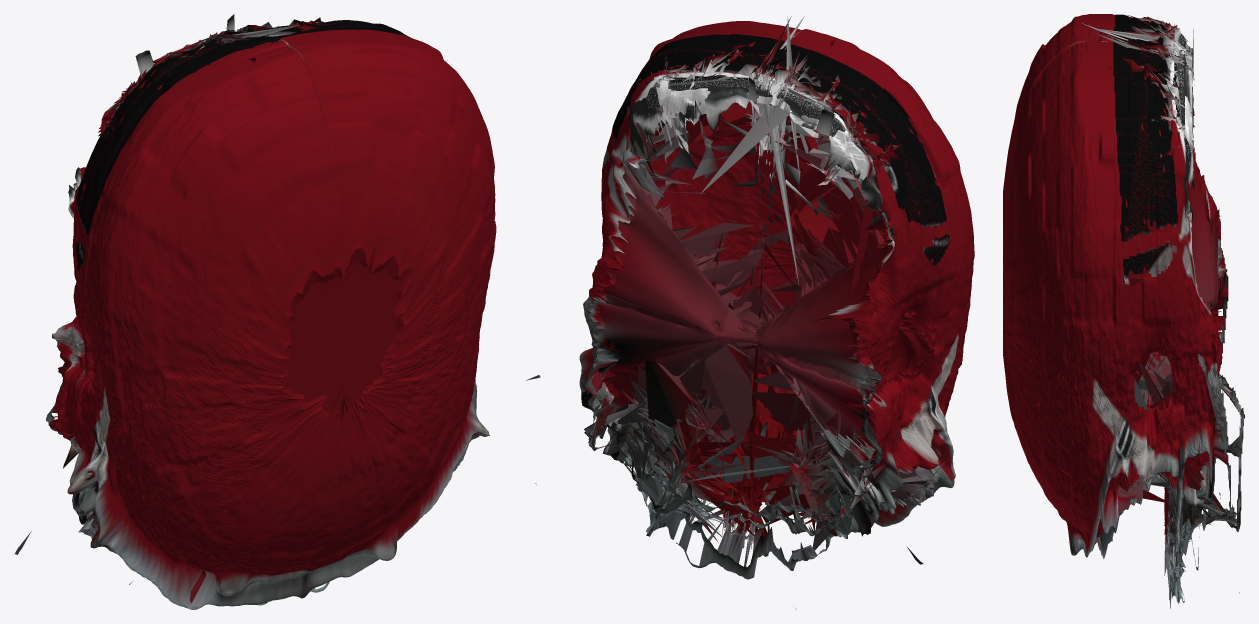
The model's file is mesh_inpaint.glb.
The picture shows the model from 3 angles, left to right: view 1: azimuth 30°, elevation 25°; view 2: azimuth 150°, elevation 25°; view 3: azimuth 270°, elevation 25°; orthographic projection. The views are drawn at different scales.
Parts seen in each view (by area): view 1: ipn, fill; view 2: fill, ipn; view 3: ipn, fill.
Part boxes in pixels (bbox=[...]): ipn: bbox=[15, 14, 496, 609]; fill: bbox=[49, 17, 412, 603]; fill: bbox=[584, 16, 945, 566]; ipn: bbox=[526, 21, 974, 609]; ipn: bbox=[1003, 14, 1244, 608]; fill: bbox=[1003, 15, 1242, 602].
Bounding box in the file's own units: 1.55 × 2.03 × 0.8043.
Materials: 2 (1 with a texture image).
